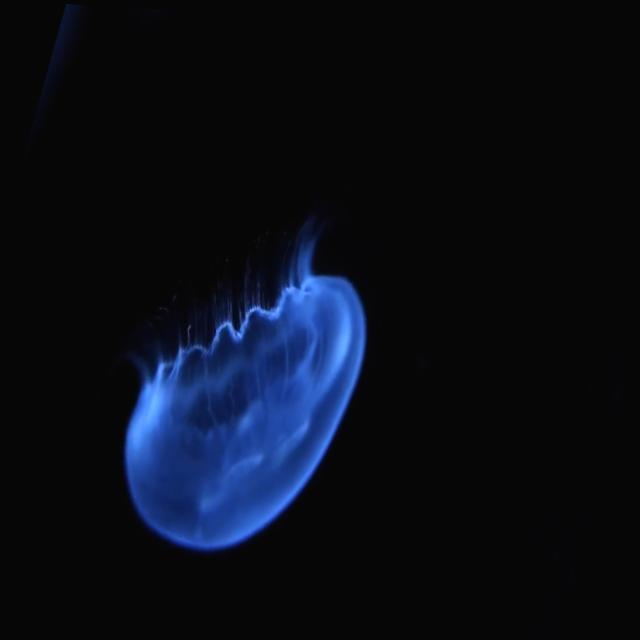Moon-jellyfish: (128, 235, 369, 548)
